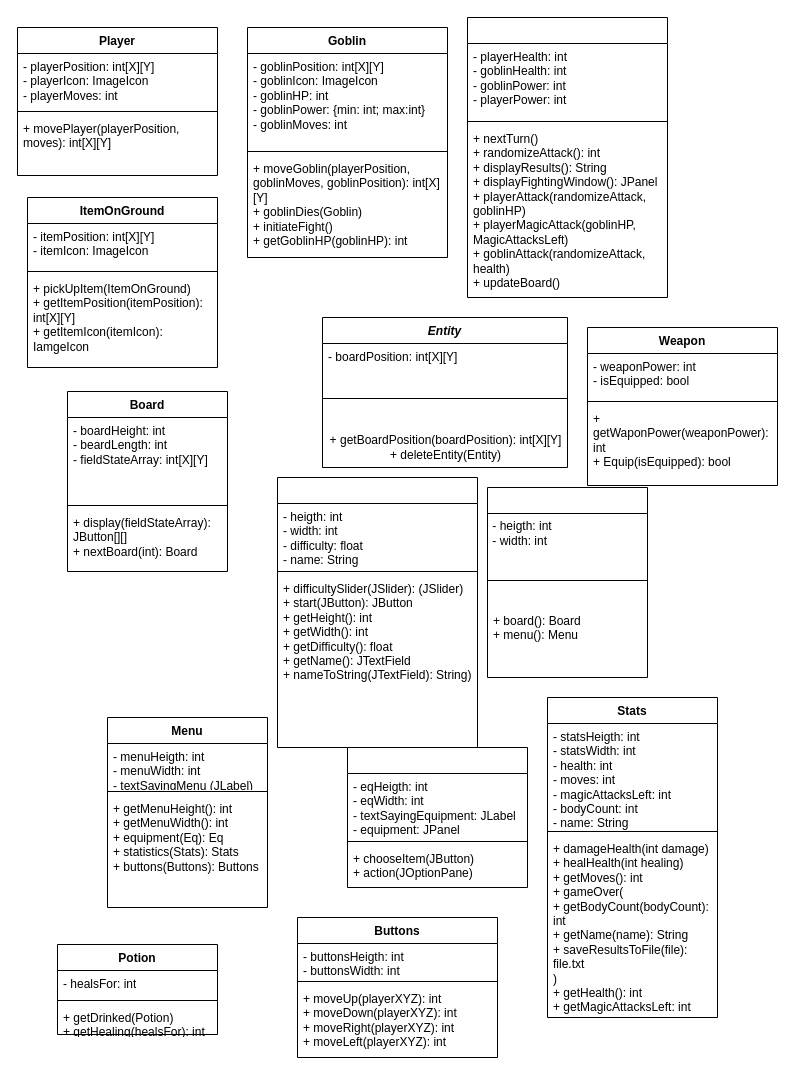
Image size: 795x1078. Some labels were removed from this diagram. Each missing label, with the box of its shape:
Eq: (346, 746, 528, 888)
FightSpace: (466, 16, 668, 298)
MainFrame: (486, 486, 648, 678)
Settings: (276, 476, 478, 748)
